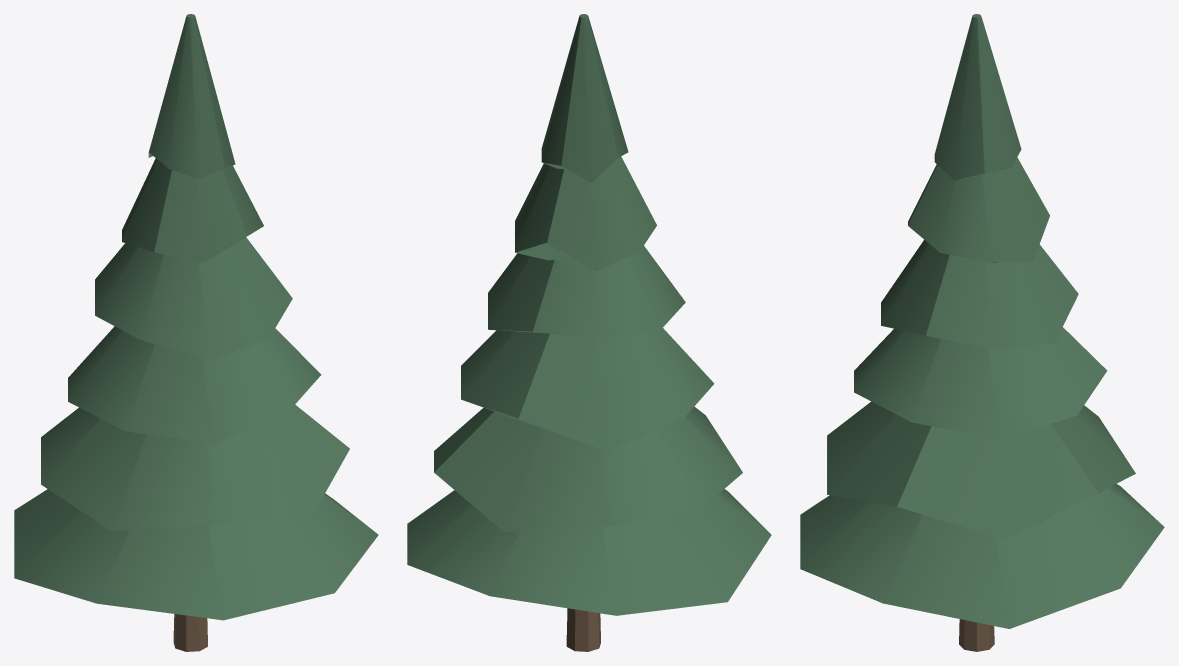
Rendered from pine_1.glb.
The picture shows the model from 3 angles, left to right: view 1: azimuth 30°, elevation 25°; view 2: azimuth 150°, elevation 25°; view 3: azimuth 270°, elevation 25°; orthographic projection.
Visible parts, largest first — view 1: Tier0, Tier1, Tier2, Tier3, Tier4, Tier5, Trunk; view 2: Tier0, Tier1, Tier2, Tier3, Tier4, Tier5, Trunk; view 3: Tier0, Tier1, Tier2, Tier3, Tier4, Tier5, Trunk.
Boxes of the visible parts, left/top/right/bottom form: Tier0: left=14, top=489, right=378, bottom=620; Tier1: left=41, top=404, right=349, bottom=530; Tier2: left=68, top=326, right=321, bottom=444; Tier3: left=95, top=237, right=292, bottom=359; Tier4: left=122, top=158, right=263, bottom=262; Tier5: left=148, top=14, right=235, bottom=178; Trunk: left=173, top=614, right=207, bottom=651; Tier0: left=407, top=489, right=771, bottom=615; Tier1: left=434, top=406, right=742, bottom=532; Tier2: left=461, top=328, right=714, bottom=450; Tier3: left=488, top=246, right=685, bottom=336; Tier4: left=515, top=156, right=656, bottom=271; Tier5: left=541, top=14, right=628, bottom=182; Trunk: left=566, top=608, right=600, bottom=651; Tier0: left=800, top=484, right=1164, bottom=628; Tier1: left=827, top=401, right=1135, bottom=539; Tier2: left=854, top=327, right=1107, bottom=438; Tier3: left=881, top=239, right=1078, bottom=349; Tier4: left=908, top=157, right=1049, bottom=262; Tier5: left=934, top=14, right=1021, bottom=180; Trunk: left=959, top=619, right=994, bottom=651.
Bounding box in the file's own units: 4.14 × 7.75 × 4.07.
